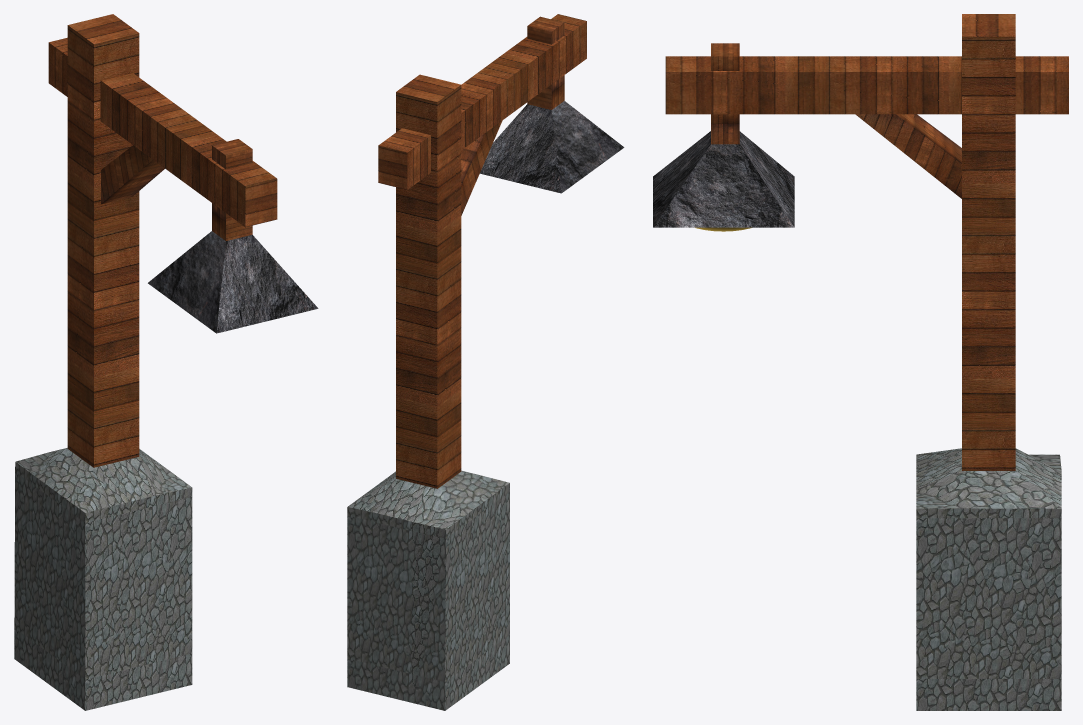
Rendered from Farol.fbx.
3 renders of one model, left to right at view 1: azimuth 30°, elevation 25°; view 2: azimuth 150°, elevation 25°; view 3: azimuth 270°, elevation 25°, orthographic. The views are drawn at different scales.
Parts seen in each view (by area): view 1: Box001, Box002, Box003, Box006, Box004, Box005; view 2: Box001, Box002, Box003, Box006, Box005, Box004; view 3: Box001, Box002, Box003, Box006, Box004, Box005.
Boxes of the visible parts, left/top/right/bottom form: Box001: left=14, top=448, right=192, bottom=710; Box002: left=67, top=14, right=139, bottom=467; Box003: left=48, top=37, right=277, bottom=227; Box006: left=148, top=231, right=318, bottom=333; Box004: left=101, top=145, right=164, bottom=204; Box005: left=212, top=139, right=252, bottom=240; Box001: left=347, top=470, right=509, bottom=710; Box002: left=396, top=74, right=461, bottom=488; Box003: left=378, top=14, right=586, bottom=189; Box006: left=480, top=101, right=624, bottom=193; Box005: left=527, top=16, right=564, bottom=109; Box004: left=461, top=120, right=502, bottom=215; Box001: left=916, top=448, right=1061, bottom=710; Box002: left=962, top=14, right=1015, bottom=470; Box003: left=665, top=56, right=1068, bottom=114; Box006: left=653, top=131, right=794, bottom=227; Box004: left=855, top=114, right=961, bottom=198; Box005: left=711, top=43, right=739, bottom=144.
Size of the model in its own units: 23.53 by 135 by 77.21.
